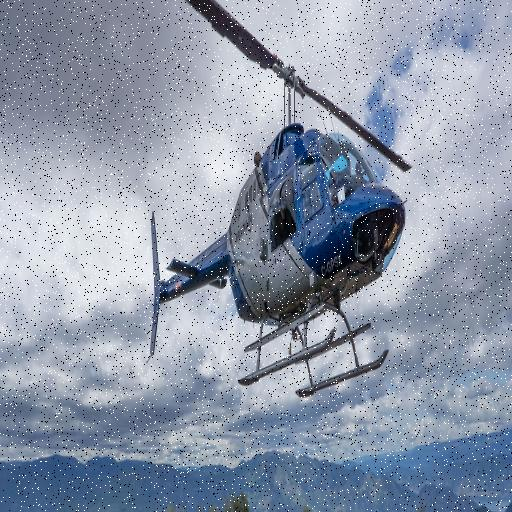helicopter: (137, 1, 415, 403)
